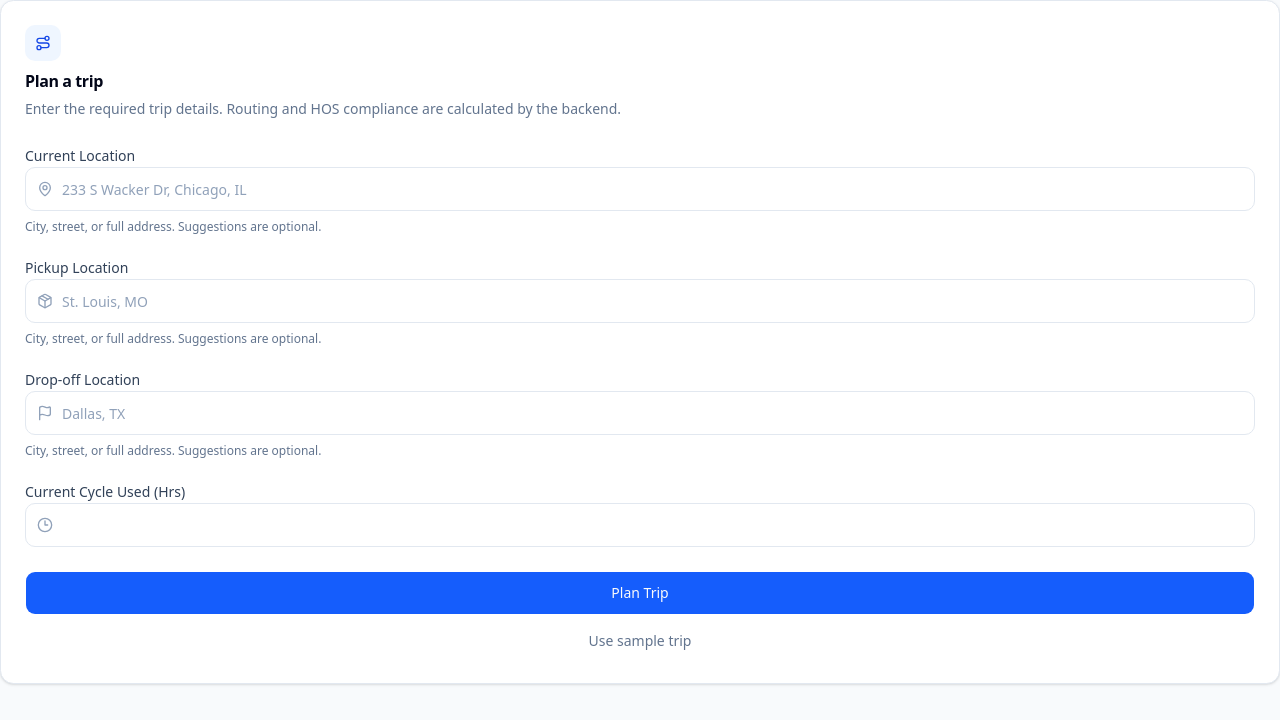
Test: TripPlannerForm › requires every location
Click the button "Plan Trip".
click(640, 593)  # box [25,571,1255,615]
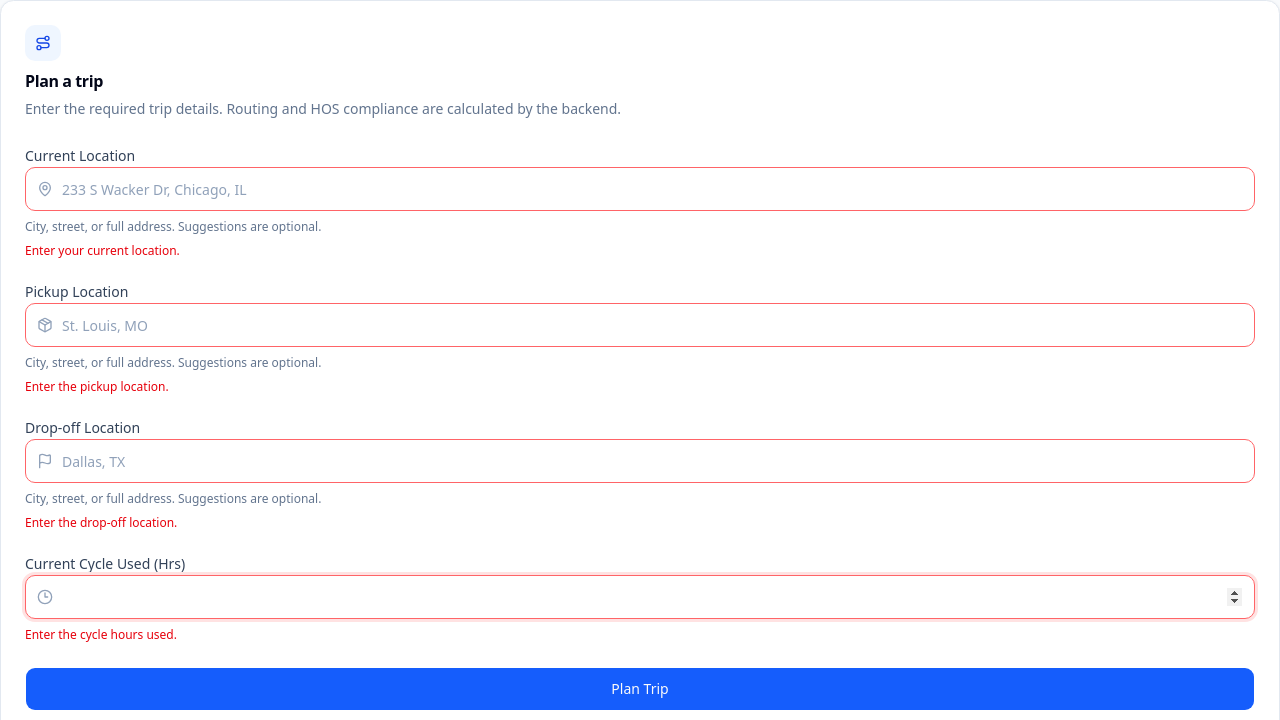
Result: the text "Enter your current location." is shown at [25,242,180,259]
Result: the text "Enter the pickup location." is shown at [25,378,169,395]
Result: the text "Enter the drop-off location." is shown at [25,514,177,531]
